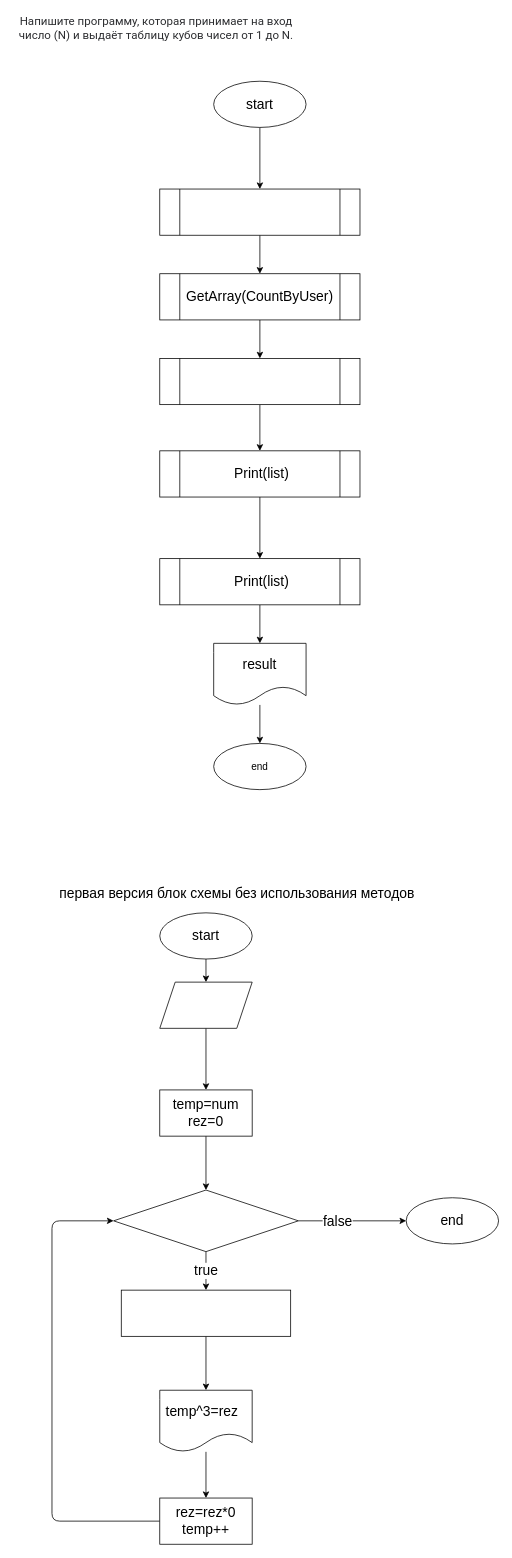
Image size: 512x1558. Some labels were removed from this diagram. The shapes that lost their labels are listed below. From the top down, each one's centre as x and y in pixels, then its label:
(x=259, y=211): GetNumberByUser(N)
(x=259, y=381): GetCub(list)
(x=205, y=1004): num
(x=205, y=1220): temp<=num
(x=206, y=1312): rez=Math.Pow(temp,3)
